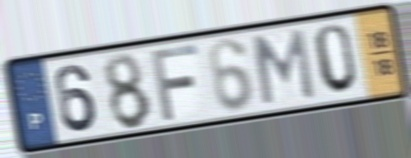0: (312, 22, 359, 97)
6: (206, 36, 256, 115), (53, 63, 99, 134)
8: (103, 50, 154, 130)
F: (149, 41, 201, 123)
M: (250, 27, 318, 108)
